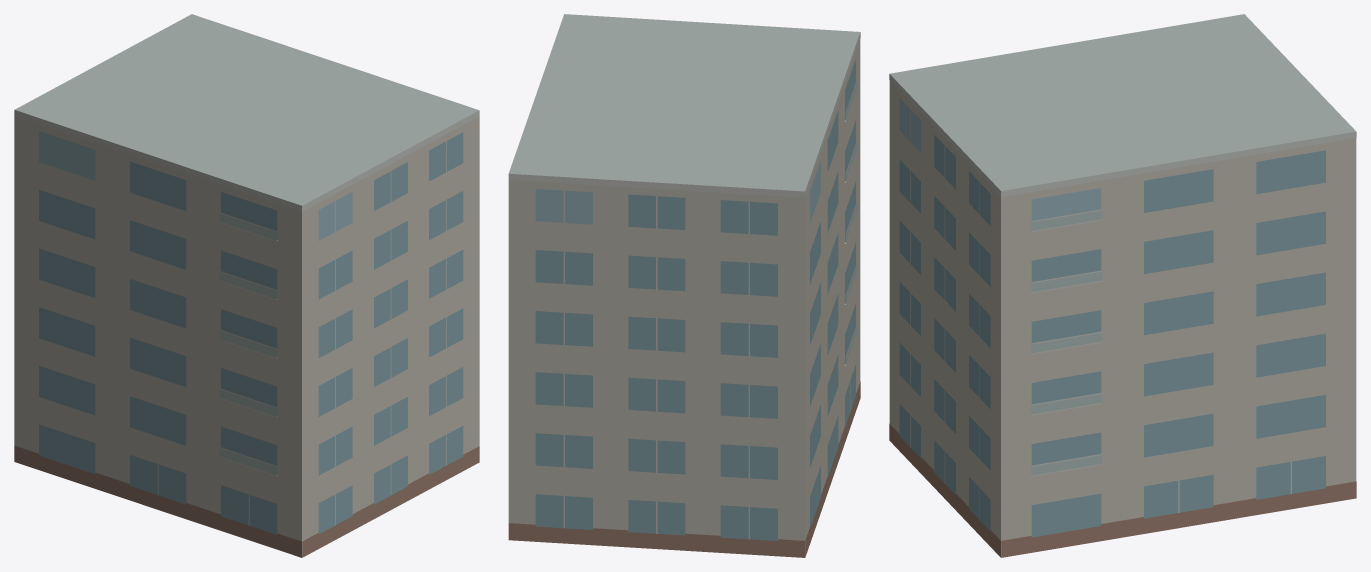
Rendered from survey-upis-32884168.glb.
The picture shows the model from 3 angles, left to right: view 1: azimuth 30°, elevation 25°; view 2: azimuth 150°, elevation 25°; view 3: azimuth 270°, elevation 25°; orthographic projection. The views are drawn at different scales.
Visible parts, largest first — view 1: survey-upis-32884168.tmp; view 2: survey-upis-32884168.tmp; view 3: survey-upis-32884168.tmp.
Part boxes in pixels (x1=…): survey-upis-32884168.tmp: x1=14, y1=14, x2=479, y2=557; survey-upis-32884168.tmp: x1=508, y1=14, x2=860, y2=557; survey-upis-32884168.tmp: x1=889, y1=14, x2=1356, y2=557.
Bounding box in the file's own units: 15.08 × 14.55 × 16.8.
